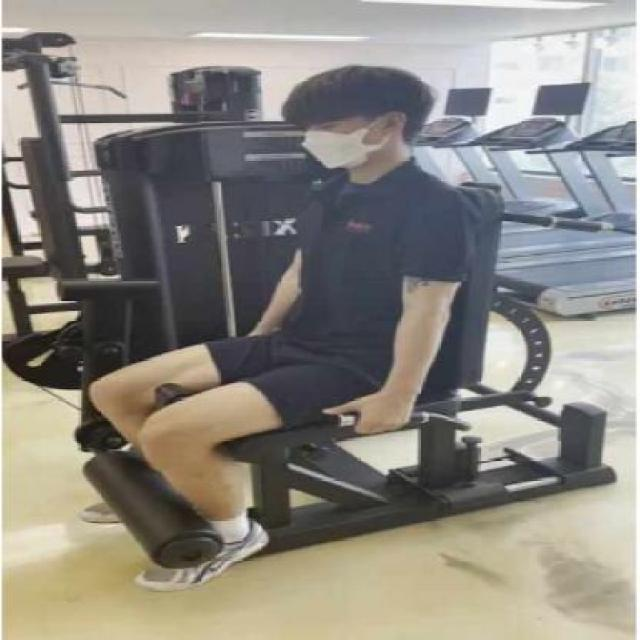leg extension: (4, 58, 640, 598)
